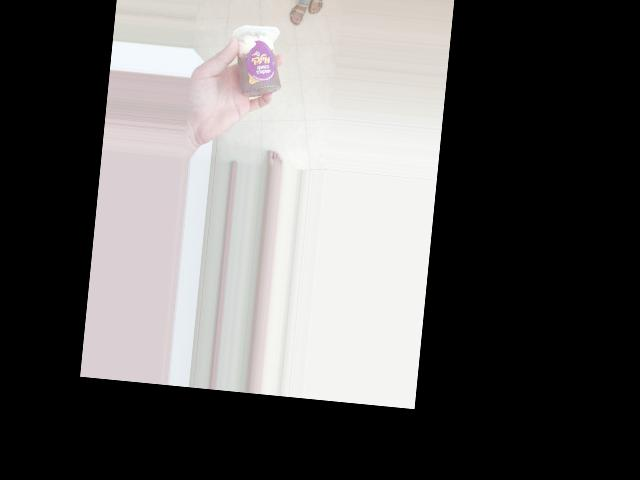milky: (229, 22, 281, 109)
